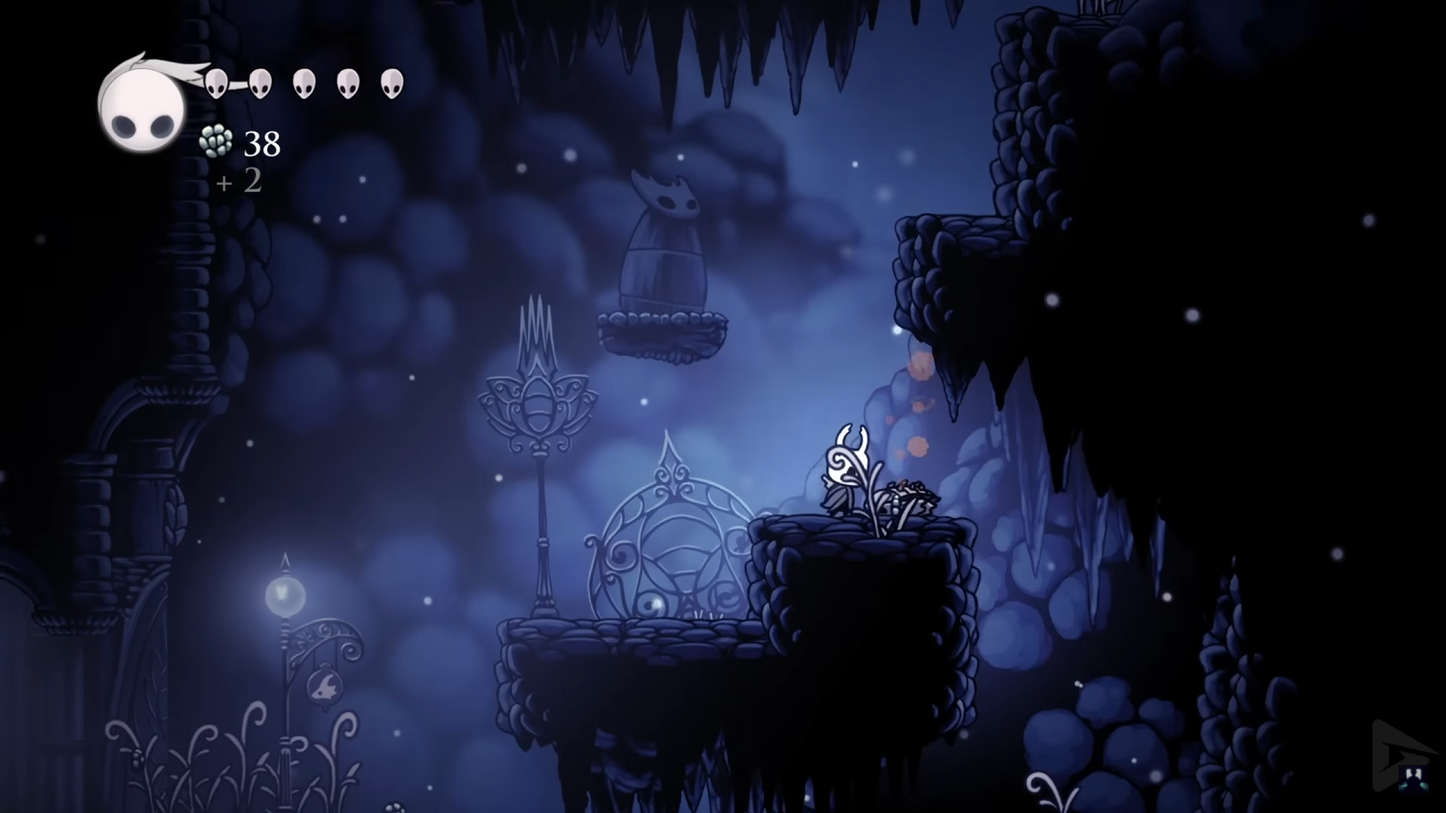HK: (816, 420, 877, 519)
